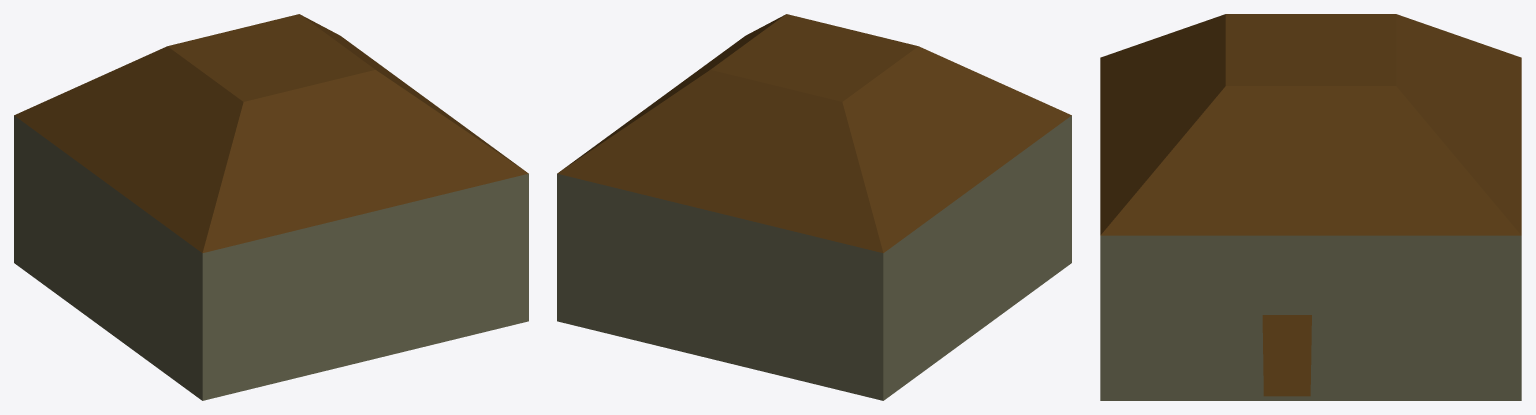
File: house.fbx
The picture shows the model from 3 angles, left to right: view 1: azimuth 30°, elevation 25°; view 2: azimuth 150°, elevation 25°; view 3: azimuth 270°, elevation 25°; orthographic projection. The views are drawn at different scales.
Parts seen in each view (by area): view 1: Cube; view 2: Cube; view 3: Cube.
Boxes of the visible parts, box(x1,y1,x2,y2) form: Cube: box(14, 14, 528, 400); Cube: box(557, 14, 1071, 400); Cube: box(1100, 14, 1521, 400).
Bounding box in the file's own units: 17641 × 12095 × 17641.
